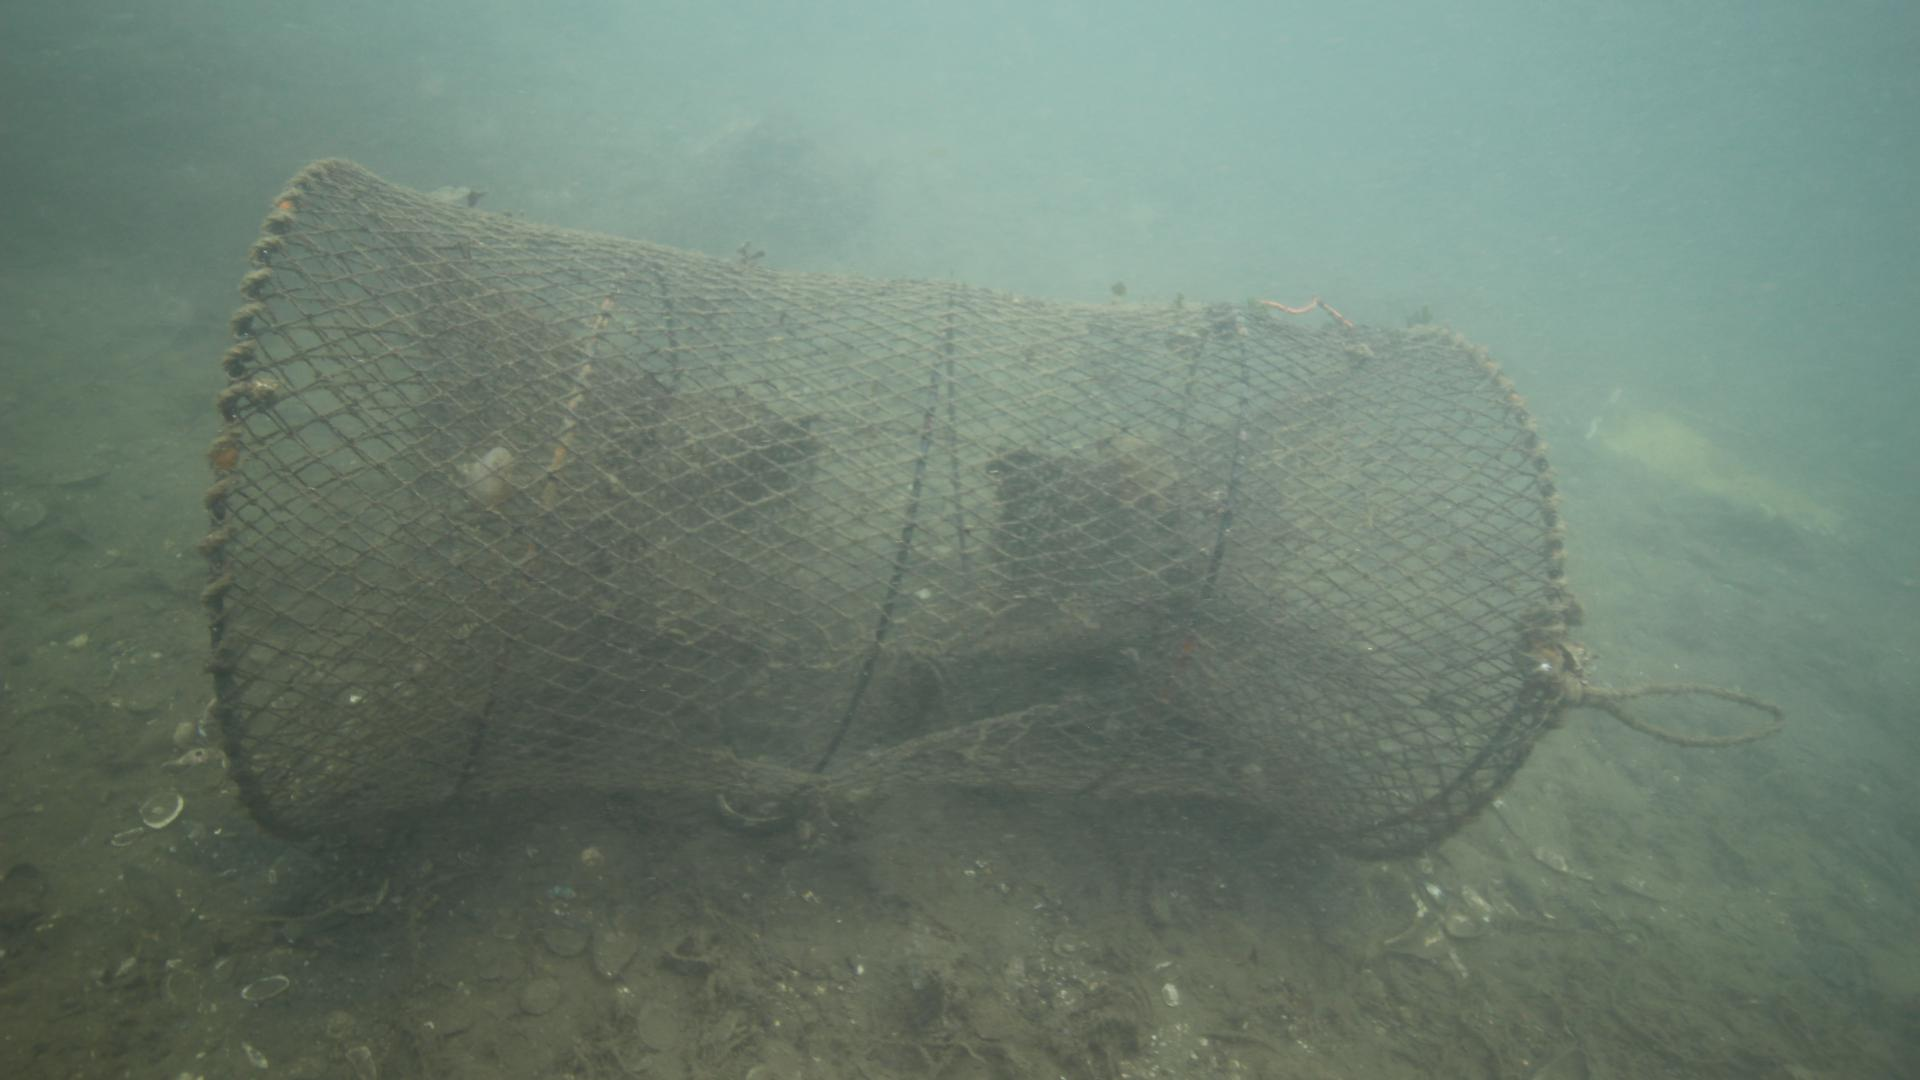bundle of ropes: (1563, 674, 1791, 753)
spring fish trap: (199, 153, 1581, 865)
